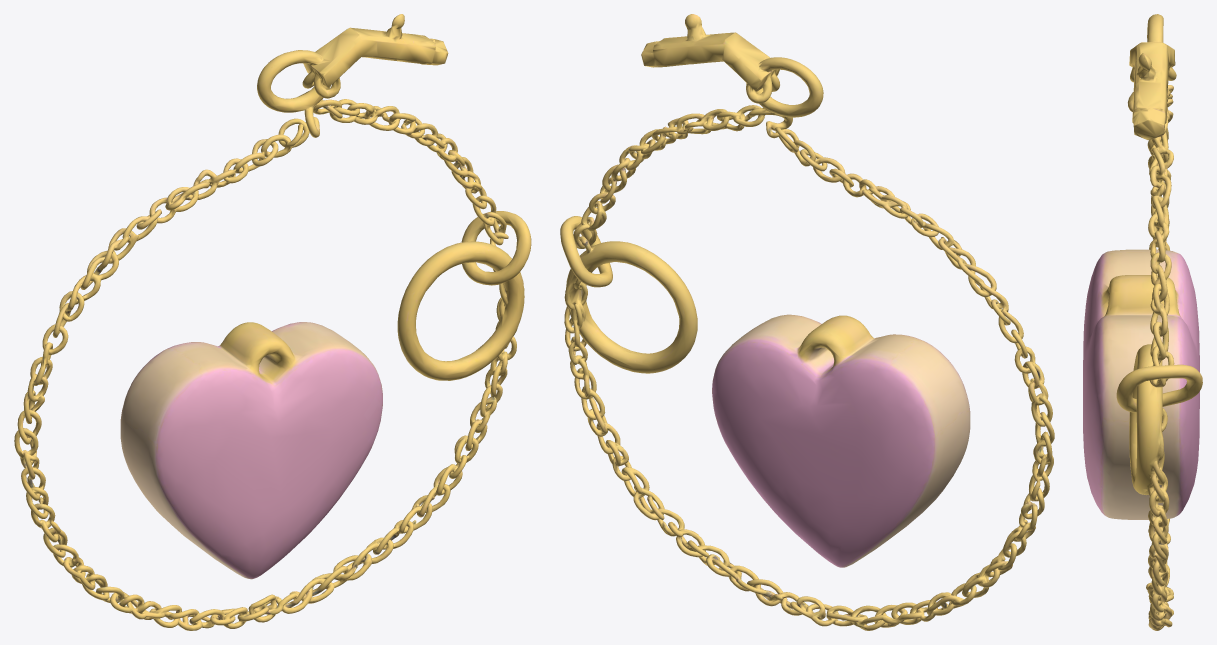
The model's file is vinted.glb.
3 views of the same model, side by side, from view 1: azimuth 30°, elevation 25°; view 2: azimuth 150°, elevation 25°; view 3: azimuth 270°, elevation 25° (orthographic). The views are drawn at different scales.
Size of the model in its own units: 1.72 by 1.9 by 0.3338.
Materials: 1 (1 with a texture image).
